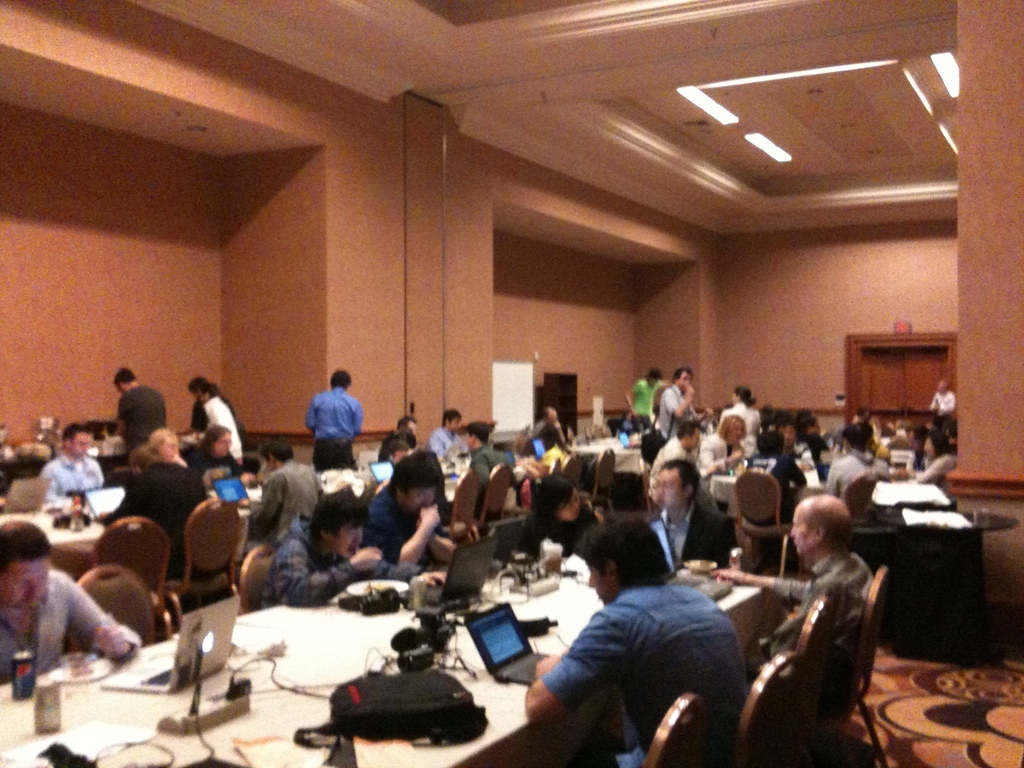Person: (0, 366, 957, 768)
